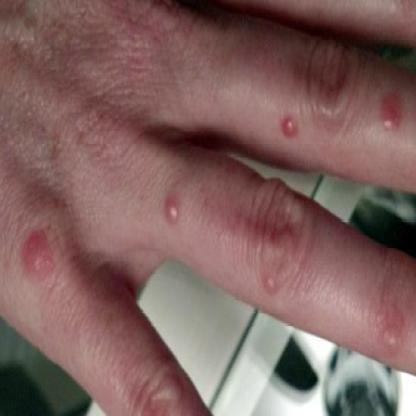Fire ant: (237, 181, 305, 260), (124, 352, 185, 410), (14, 226, 60, 285), (377, 84, 412, 138), (378, 308, 407, 352), (159, 192, 186, 233), (278, 104, 300, 143), (257, 266, 280, 297)
